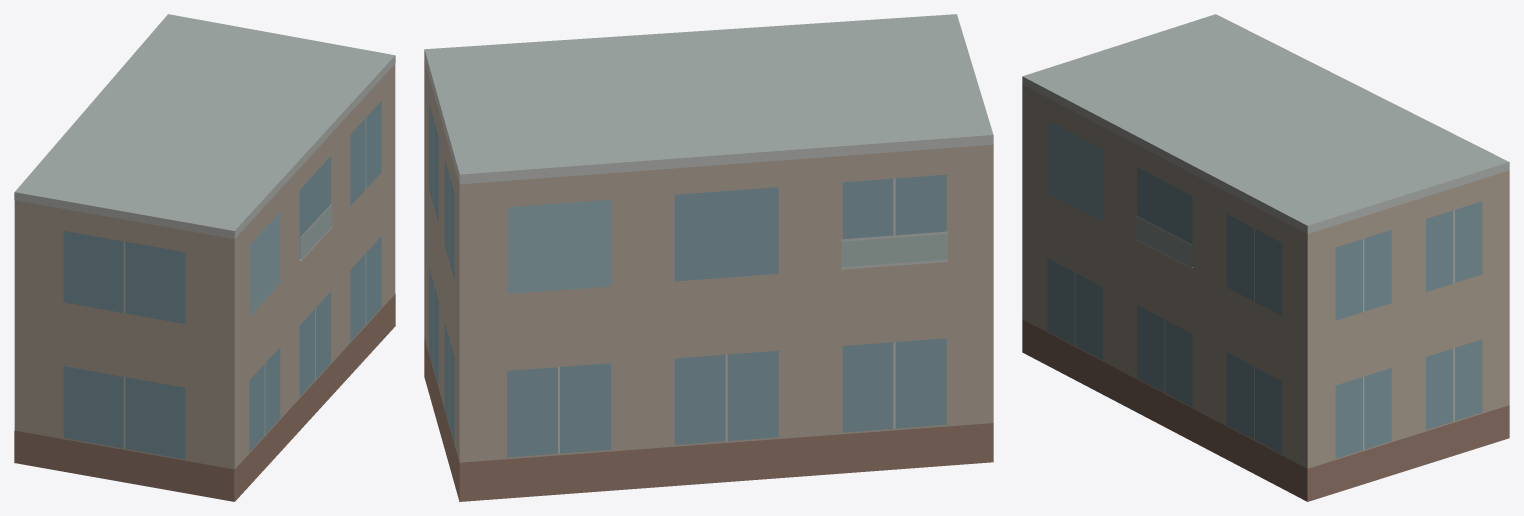
The model's file is survey-upis-32500372.glb.
3 renders of one model, left to right at view 1: azimuth 30°, elevation 25°; view 2: azimuth 150°, elevation 25°; view 3: azimuth 270°, elevation 25°, orthographic. The views are drawn at different scales.
Parts seen in each view (by area): view 1: survey-upis-32500372.tmp; view 2: survey-upis-32500372.tmp; view 3: survey-upis-32500372.tmp.
Boxes of the visible parts, <box> form: survey-upis-32500372.tmp: <box>14,14,395,501</box>; survey-upis-32500372.tmp: <box>424,14,993,501</box>; survey-upis-32500372.tmp: <box>1022,14,1509,501</box>.
Size of the model in its own units: 13.51 by 8.2 by 13.13.
